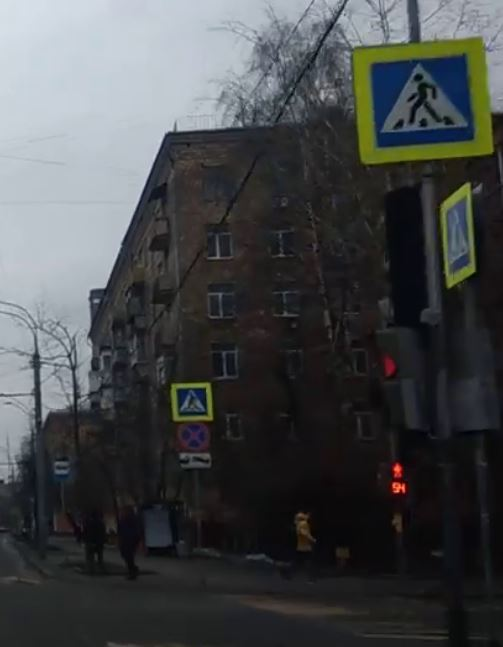Yaya Gecidi: (372, 59, 478, 144)
